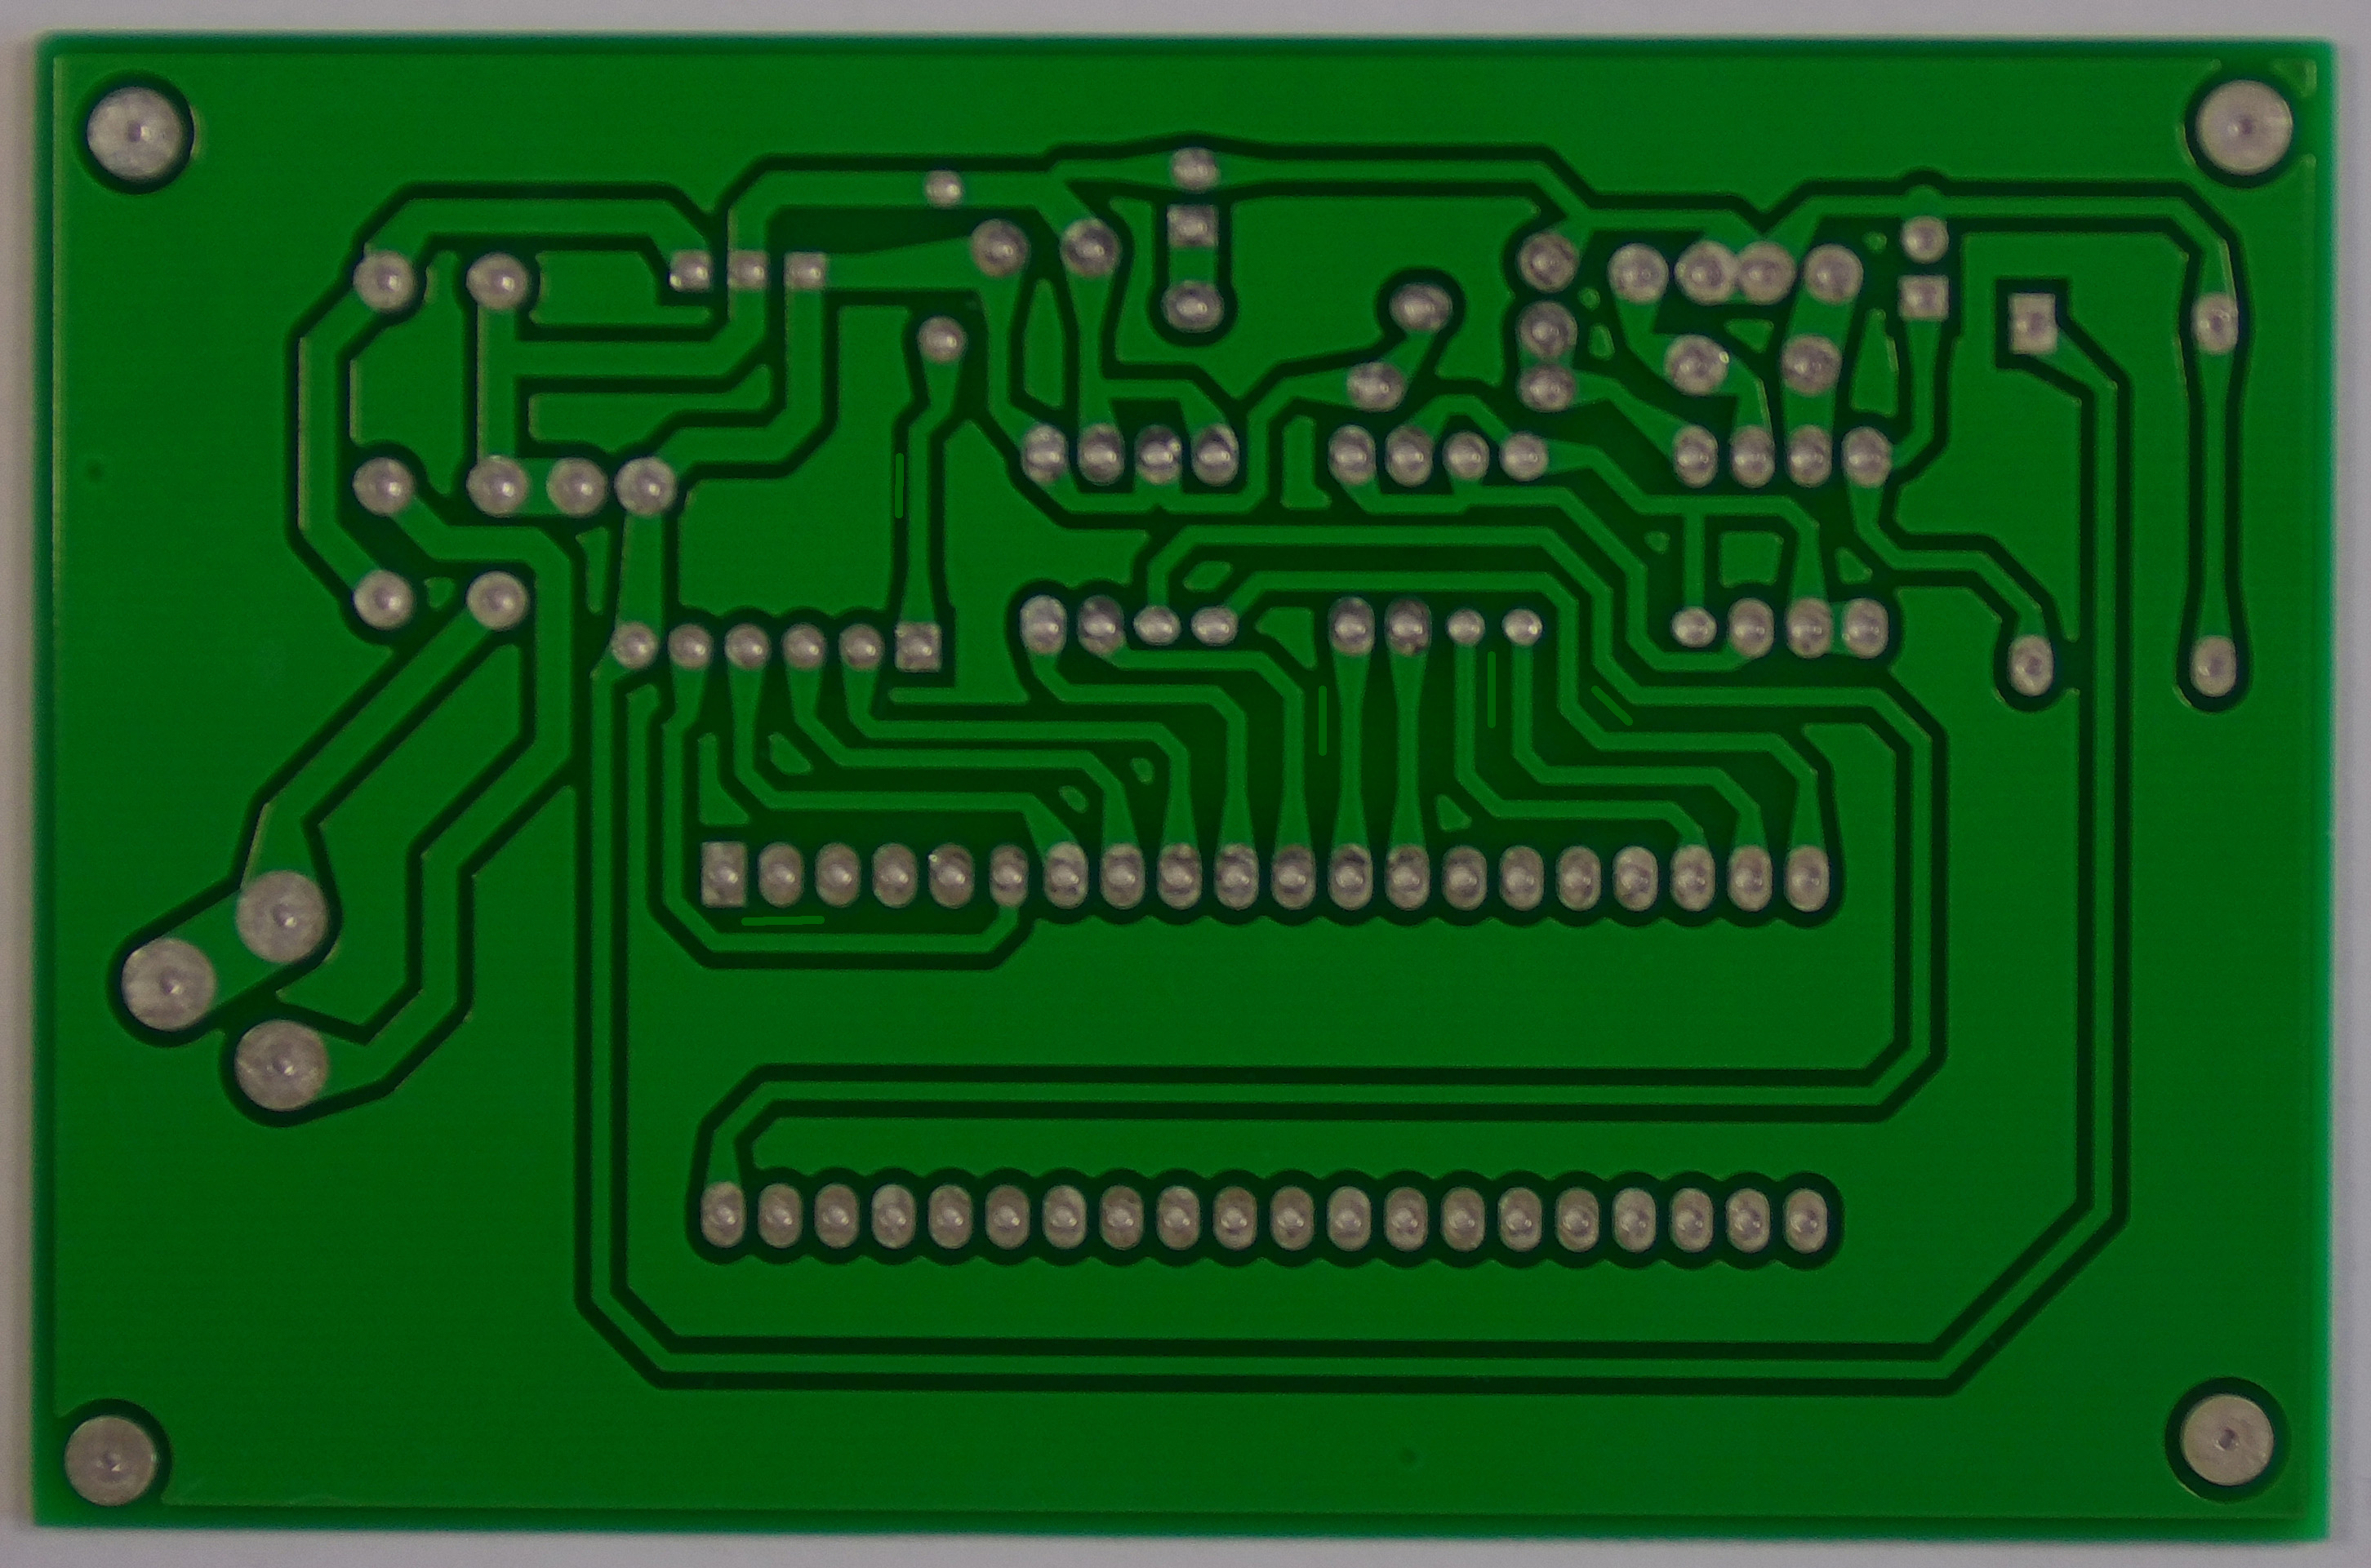spurious_copper: (872, 432, 922, 531), (1466, 637, 1513, 735), (1579, 674, 1644, 741), (1299, 675, 1346, 764), (726, 904, 840, 939)
